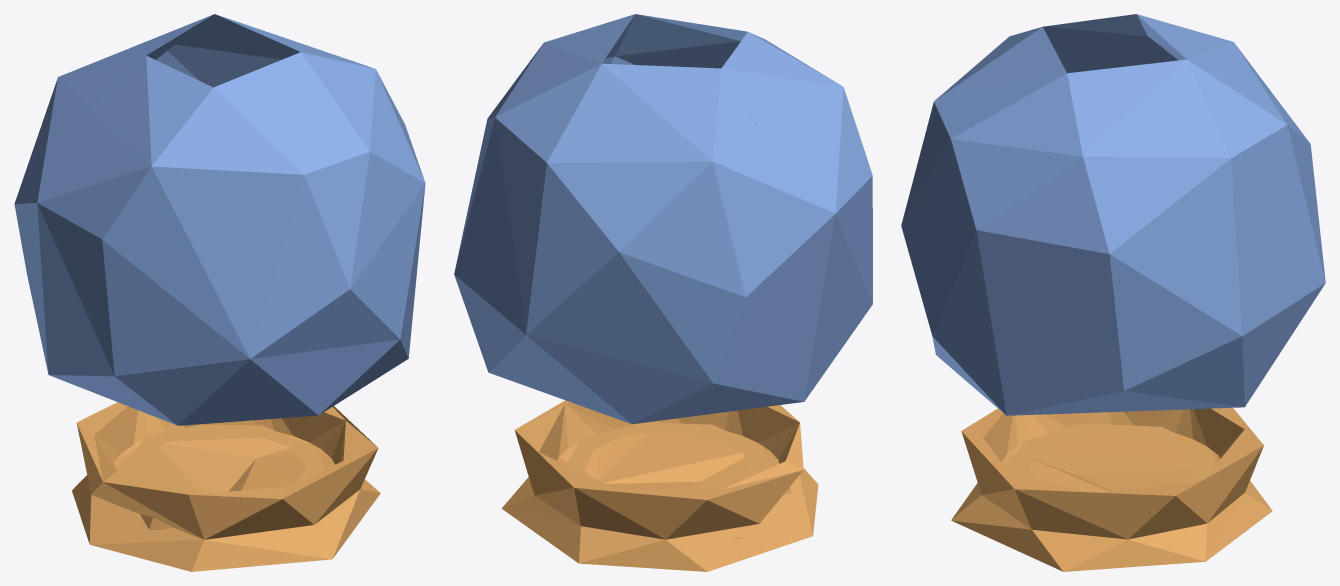
Rendered from MOD_LP_Lantern.fbx.
3 renders of one model, left to right at view 1: azimuth 30°, elevation 25°; view 2: azimuth 150°, elevation 25°; view 3: azimuth 270°, elevation 25°, orthographic.
Parts seen in each view (by area): view 1: Circle; view 2: Circle; view 3: Circle.
Boxes of the visible parts, x1,y1,x2,y2 form: Circle: [14, 14, 425, 571]; Circle: [454, 14, 872, 571]; Circle: [901, 14, 1325, 571].
Bounding box in the file's own units: 240 × 296 × 246.
